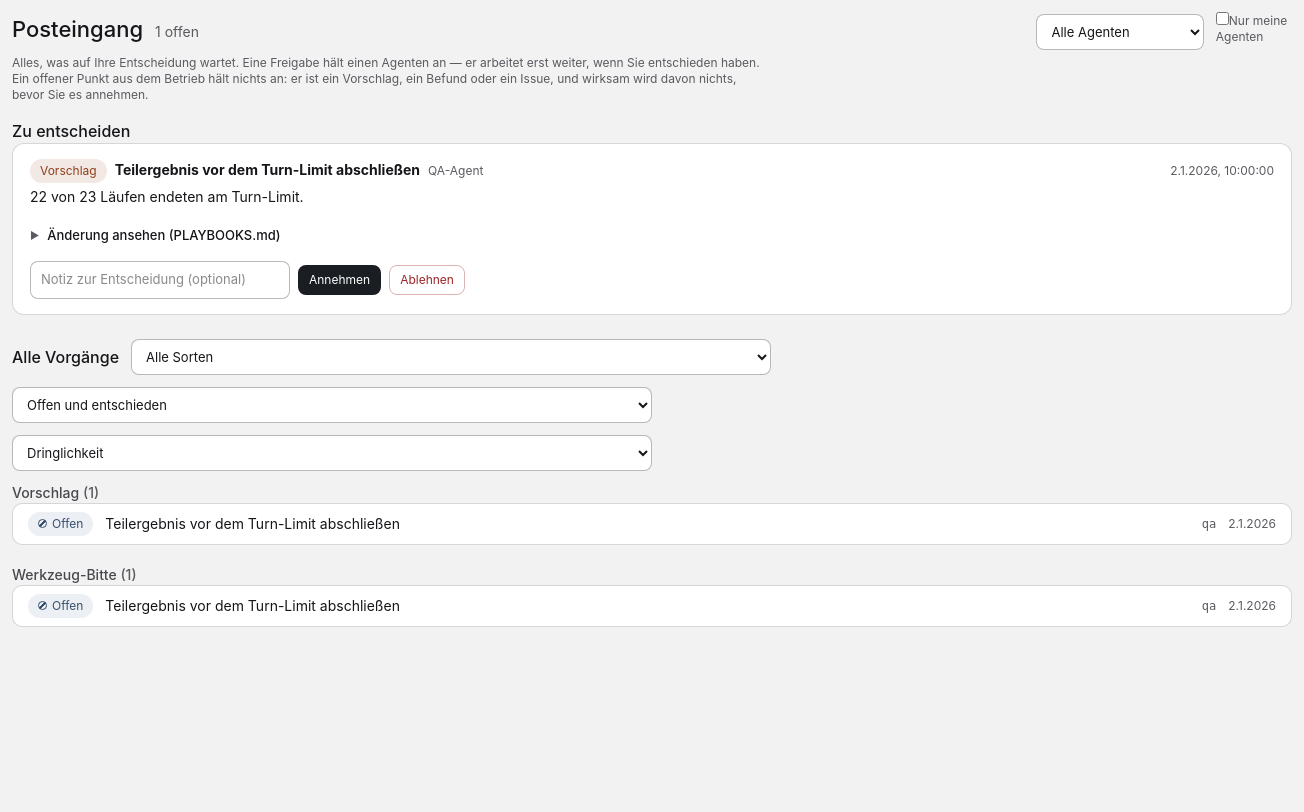
Test: Posteingang › zeigt den Diff erst auf Klick
Expected: the text "− ## Vorgehen" is not shown
What coordinates should you click on to do the following:
click the button "▶ Änderung ansehen (PLAYBOOKS.md)"
I would click on:
 (155, 236)
Its box is top-left (30, 226), bottom-right (281, 245).
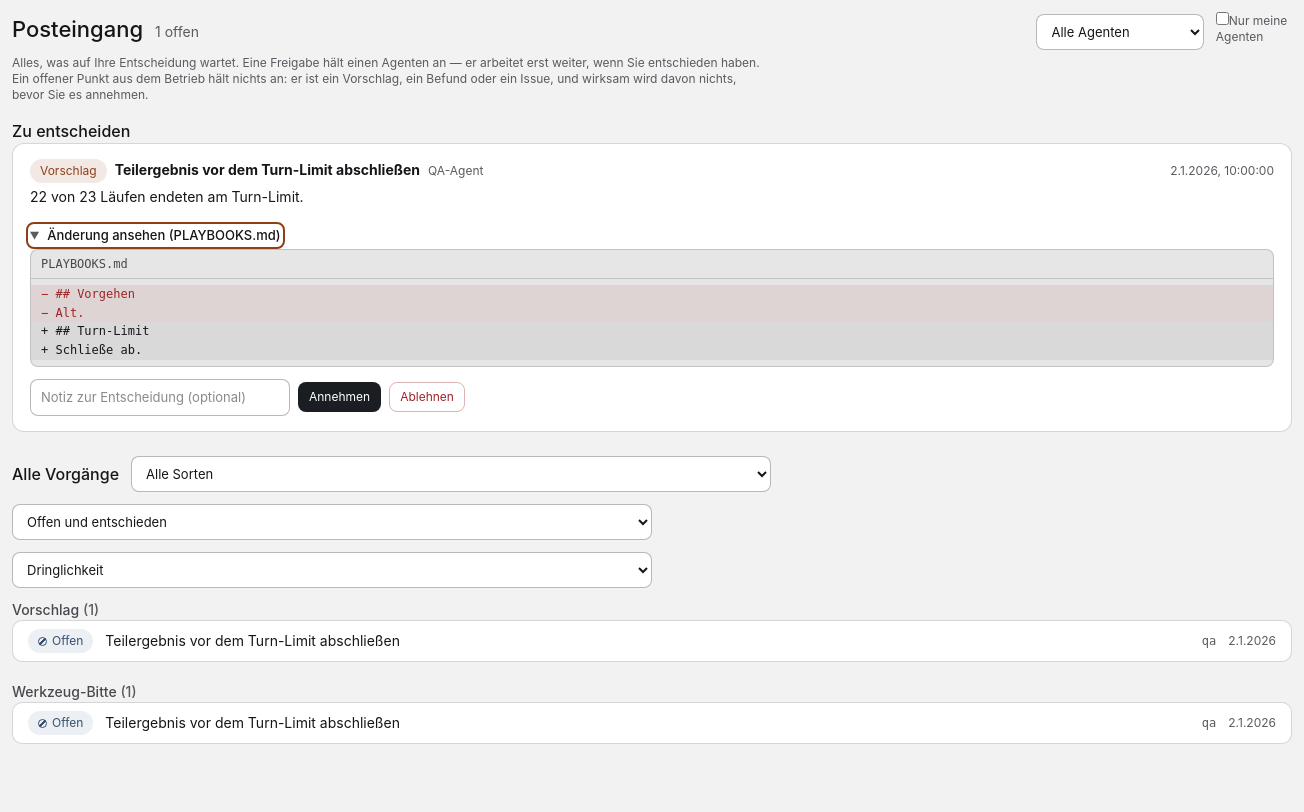
Now the text "− ## Vorgehen" is shown, box top-left (31, 285), bottom-right (1273, 304)
